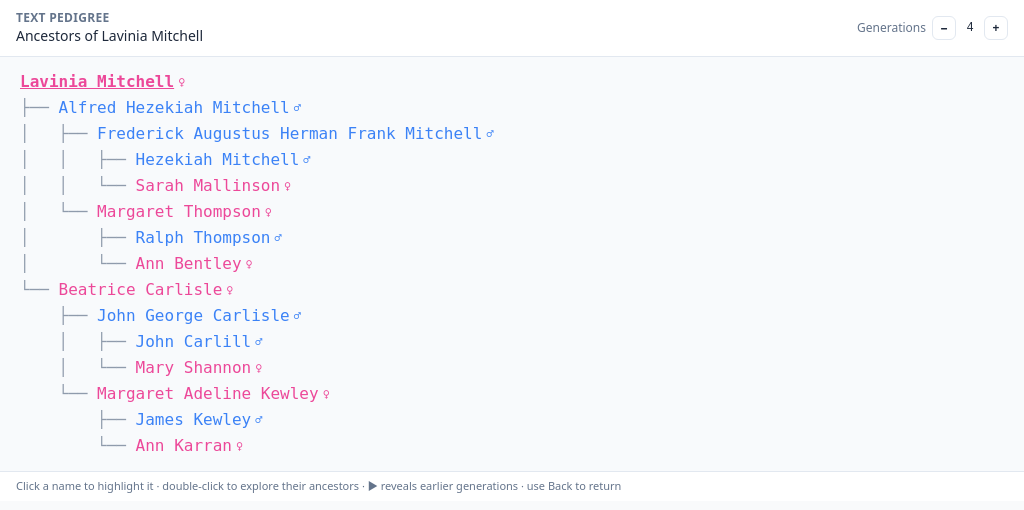
Scenario: TextPedigreeView › the generations stepper reduces visible depth when decremented
Click the button titled "Fewer generations": coordinates (944, 28) [932,16,956,40]
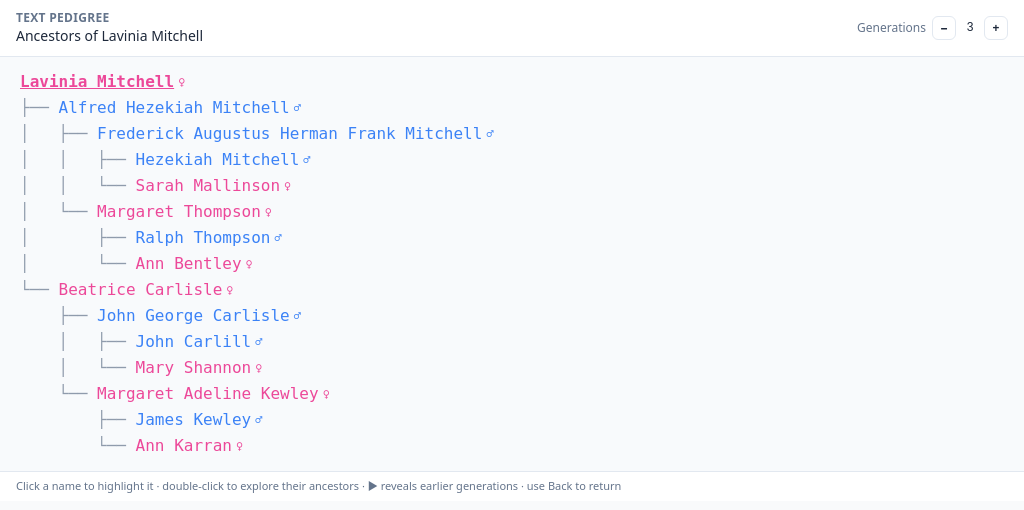
Click the button titled "Fewer generations": coordinates (944, 28) [932,16,956,40]
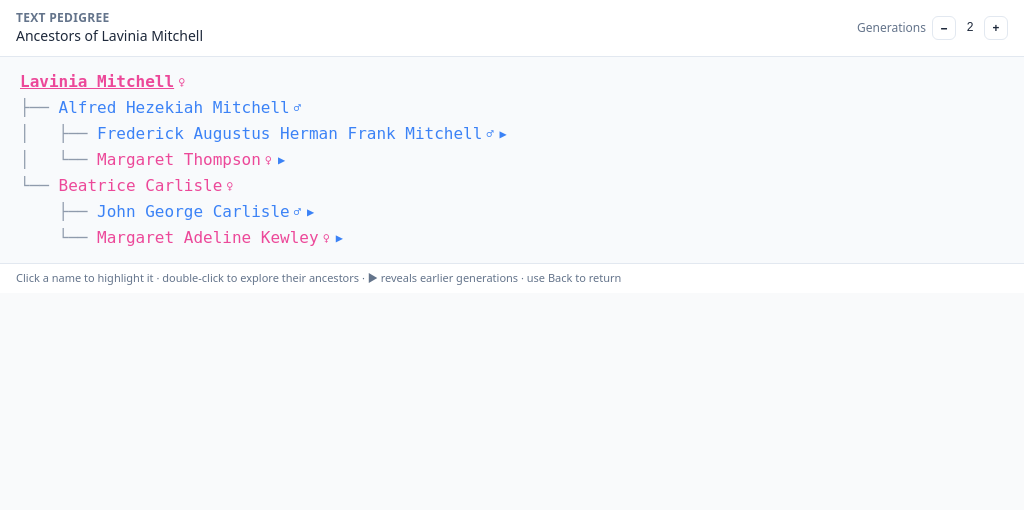
Check: the button "Frederick Augustus Herman Frank Mitchell" is shown, box [97,122,482,146]
Check: the 1st button titled "Show parents" is shown, box [500,128,507,140]
